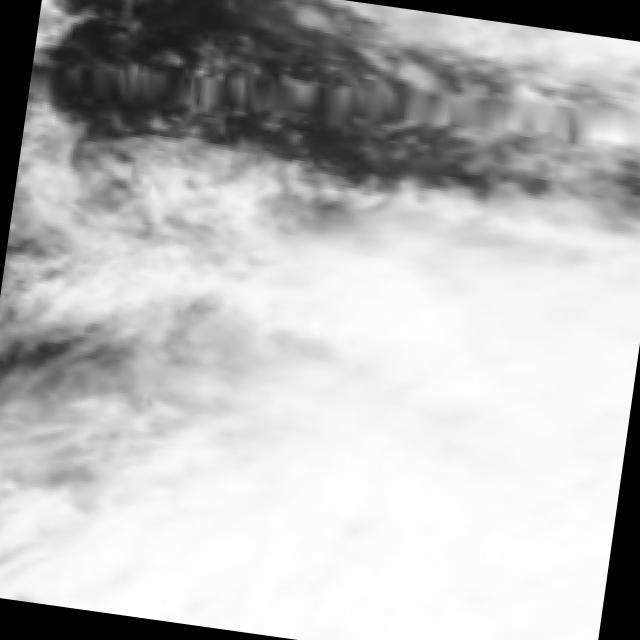CB: (232, 370, 621, 640), (371, 252, 640, 489), (109, 488, 388, 640)
